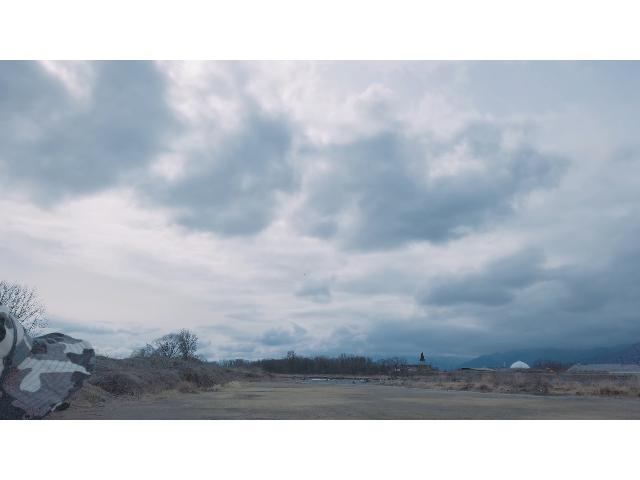Anti-Drone: (298, 268, 310, 280)
